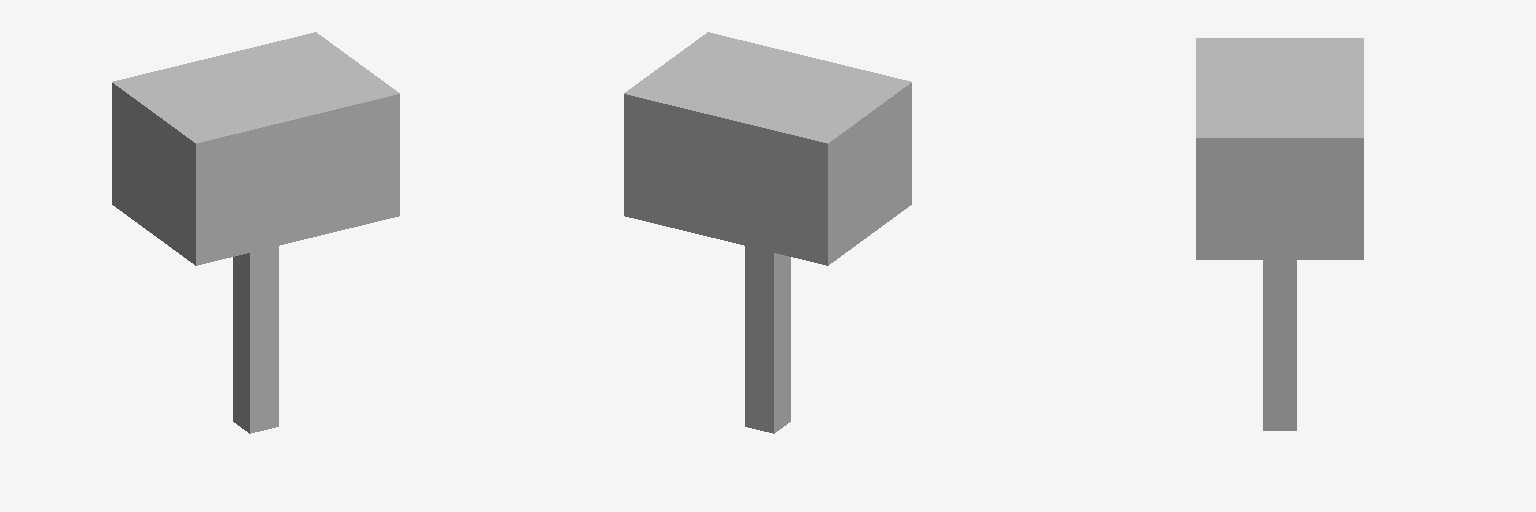
The model's file is rua_lixeira.obj.
3 views of the same model, side by side, from view 1: azimuth 30°, elevation 25°; view 2: azimuth 150°, elevation 25°; view 3: azimuth 270°, elevation 25° (orthographic).
Parts seen in each view (by area): view 1: Block, Block1; view 2: Block, Block1; view 3: Block, Block1.
Part boxes in pixels (bbox=[...]): Block: bbox=[112, 32, 399, 265]; Block1: bbox=[233, 246, 278, 433]; Block: bbox=[624, 32, 911, 265]; Block1: bbox=[745, 246, 790, 433]; Block: bbox=[1196, 38, 1363, 259]; Block1: bbox=[1263, 260, 1296, 430].
Size of the model in its own units: 0.875 by 1.38 by 0.625.